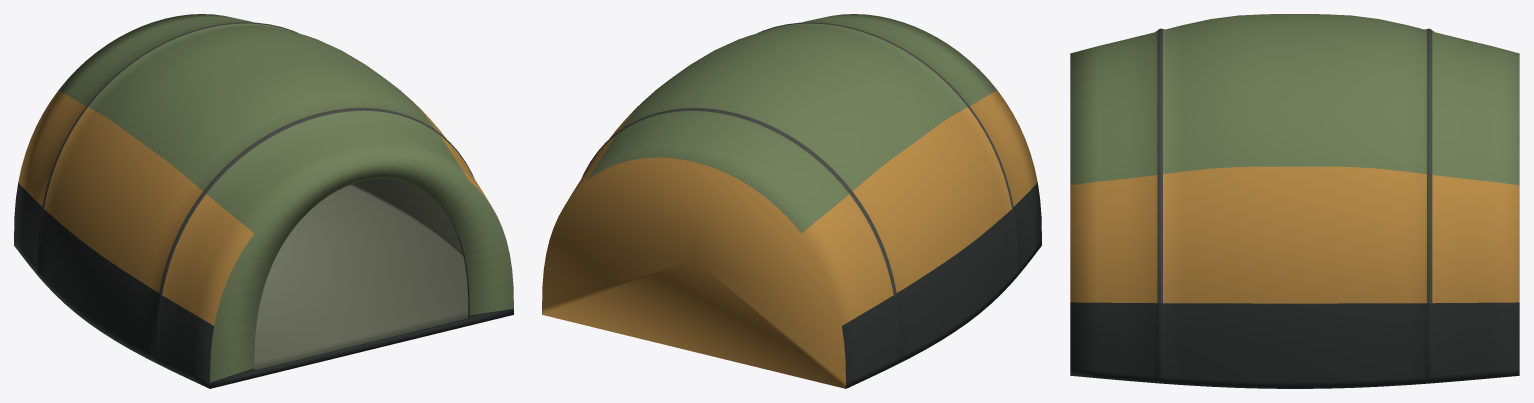
Rendered from A-NEW-20261027-DOME_TENT-001_LOD1_R2.glb.
3 views of the same model, side by side, from view 1: azimuth 30°, elevation 25°; view 2: azimuth 150°, elevation 25°; view 3: azimuth 270°, elevation 25° (orthographic). The views are drawn at different scales.
Visible parts, largest first — view 1: original dome tent walls fly ribs floor and entrance; view 2: original dome tent walls fly ribs floor and entrance; view 3: original dome tent walls fly ribs floor and entrance.
Part boxes in pixels (<box>): original dome tent walls fly ribs floor and entrance: <box>14,14,513,388</box>; original dome tent walls fly ribs floor and entrance: <box>542,14,1041,388</box>; original dome tent walls fly ribs floor and entrance: <box>1070,14,1519,388</box>.
Bounding box in the file's own units: 2.38 × 1.44 × 2.3.
